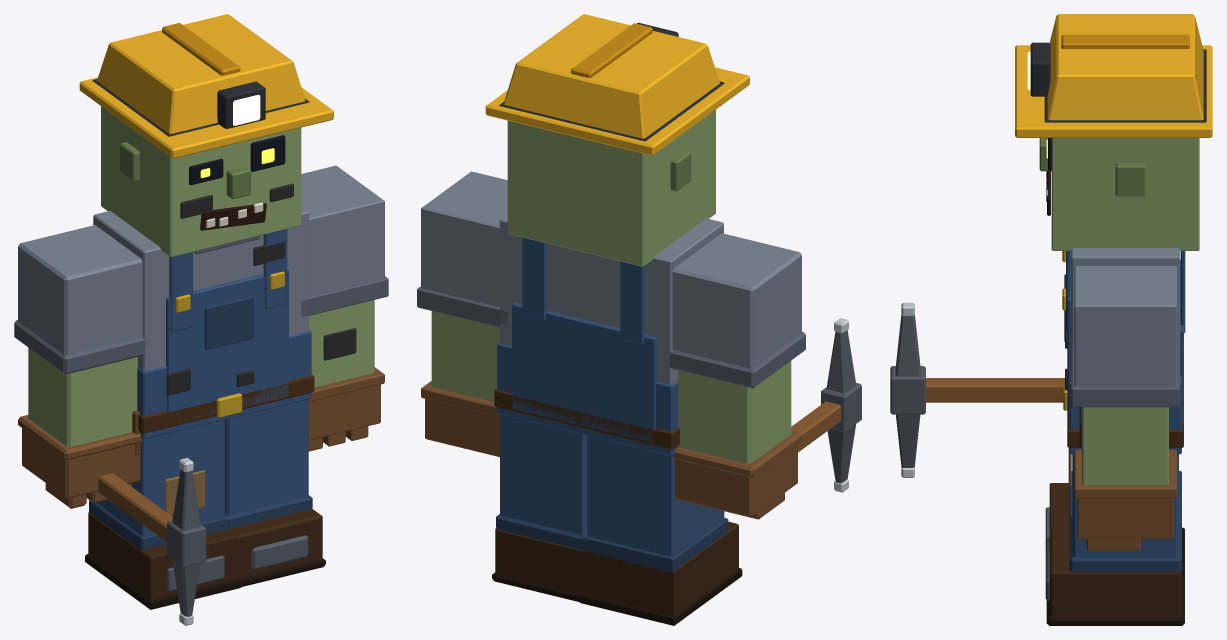
Rendered from myw_zombieminer.glb.
3 renders of one model, left to right at view 1: azimuth 30°, elevation 25°; view 2: azimuth 150°, elevation 25°; view 3: azimuth 270°, elevation 25°, orthographic. The views are drawn at different scales.
Parts seen in each view (by area): view 1: Torso, RightArm, Hat, Head, LeftArm, RightLeg, LeftLeg, Pickaxe; view 2: Torso, RightArm, Head, Hat, RightLeg, LeftArm, LeftLeg, Pickaxe; view 3: LeftArm, Hat, Head, LeftLeg, Pickaxe, Torso, RightLeg.
Part boxes in pixels (<box>): Torso: <box>93,207,314,454</box>; RightArm: <box>14,225,151,508</box>; Hat: <box>79,14,333,158</box>; Head: <box>101,106,301,257</box>; LeftArm: <box>301,165,388,451</box>; RightLeg: <box>85,420,241,609</box>; LeftLeg: <box>225,399,325,586</box>; Pickaxe: <box>97,457,206,625</box>; Torso: <box>494,214,723,455</box>; RightArm: <box>664,233,805,519</box>; Head: <box>507,110,715,266</box>; Hat: <box>485,14,749,155</box>; RightLeg: <box>579,435,742,625</box>; LeftArm: <box>417,171,507,456</box>; LeftLeg: <box>492,414,587,601</box>; Pickaxe: <box>791,318,861,492</box>; LeftArm: <box>1071,266,1179,551</box>; Hat: <box>1015,14,1212,137</box>; Head: <box>1039,138,1199,250</box>; LeftLeg: <box>1045,454,1184,625</box>; Pickaxe: <box>890,302,1064,477</box>; Torso: <box>1062,248,1185,454</box>; RightLeg: <box>1045,448,1184,576</box>.
Bounding box in the file's own units: 4.4 × 6.67 × 3.59.
